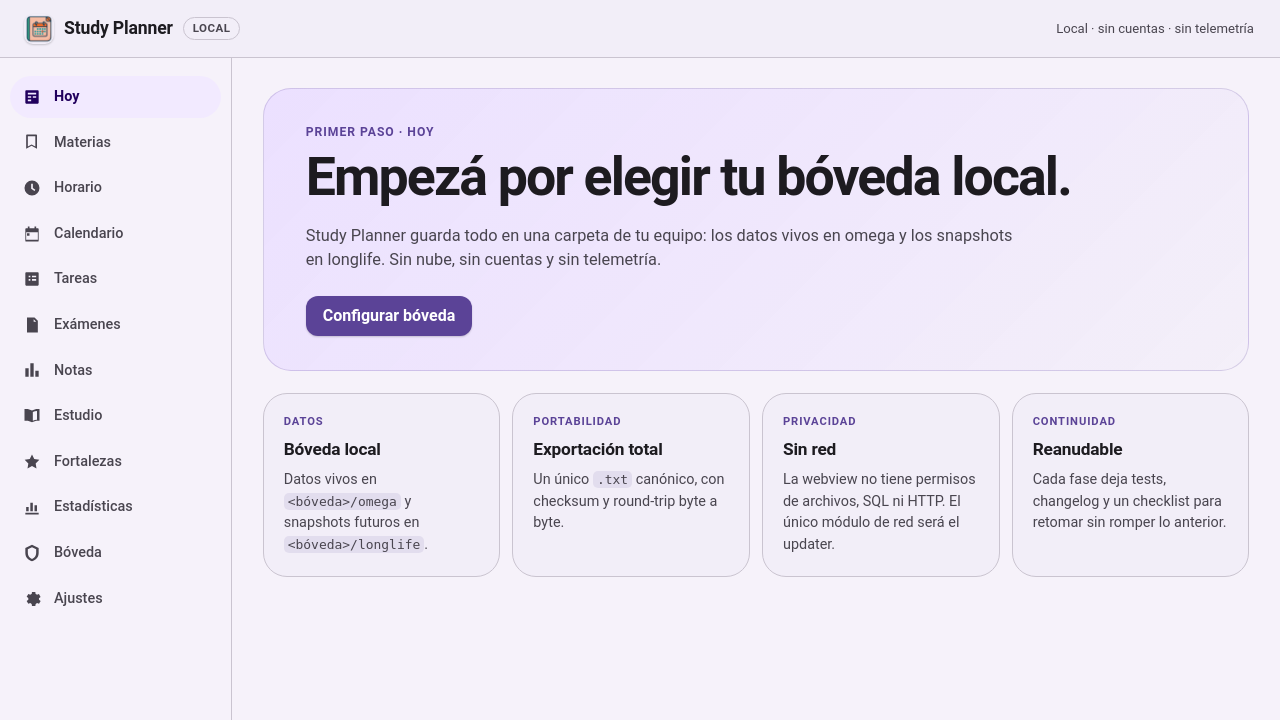
Test: App en navegador › lleva a Bóveda y deshabilita el selector fuera de Tauri
The image size is (1280, 720).
Step 1. Click the button "Configurar bóveda" → (389, 316), box [306,296,472,336]
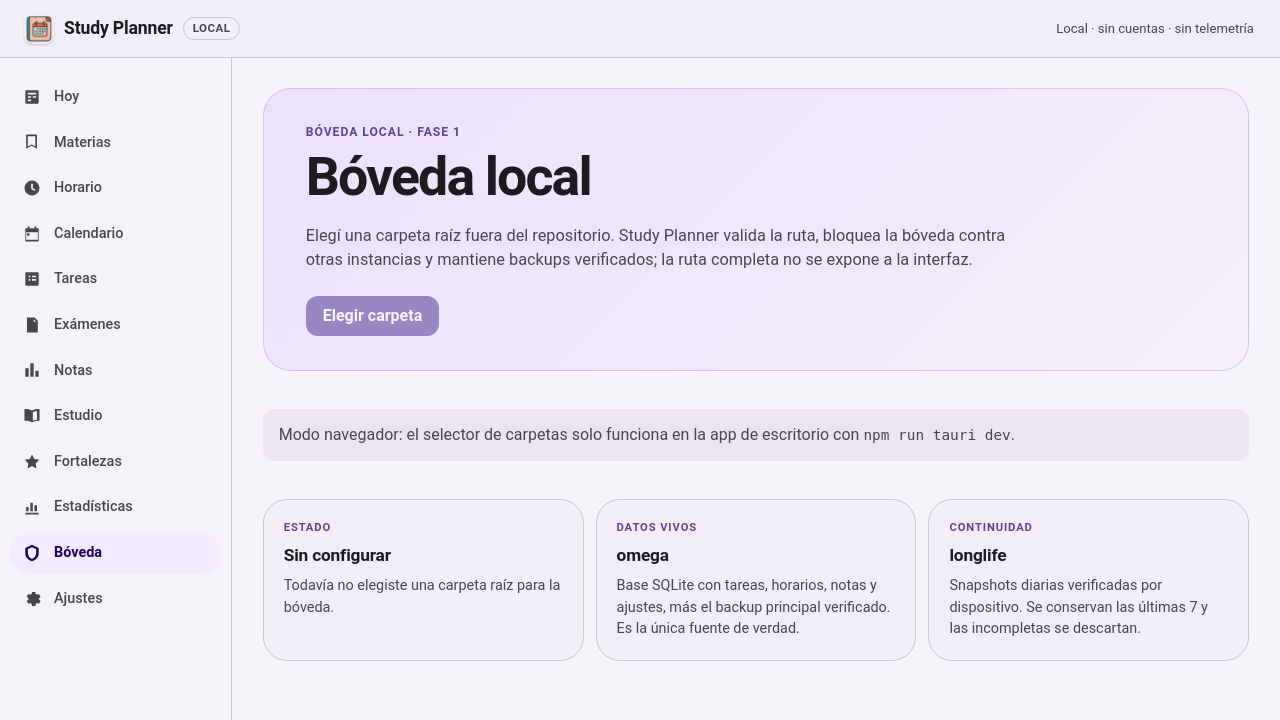
Expected: the heading "Bóveda local" is shown, [306,145,591,208]
Expected: the button "Elegir carpeta" is disabled, [306,296,439,336]
Expected: the text "Modo navegador" is shown, [279,425,863,444]
